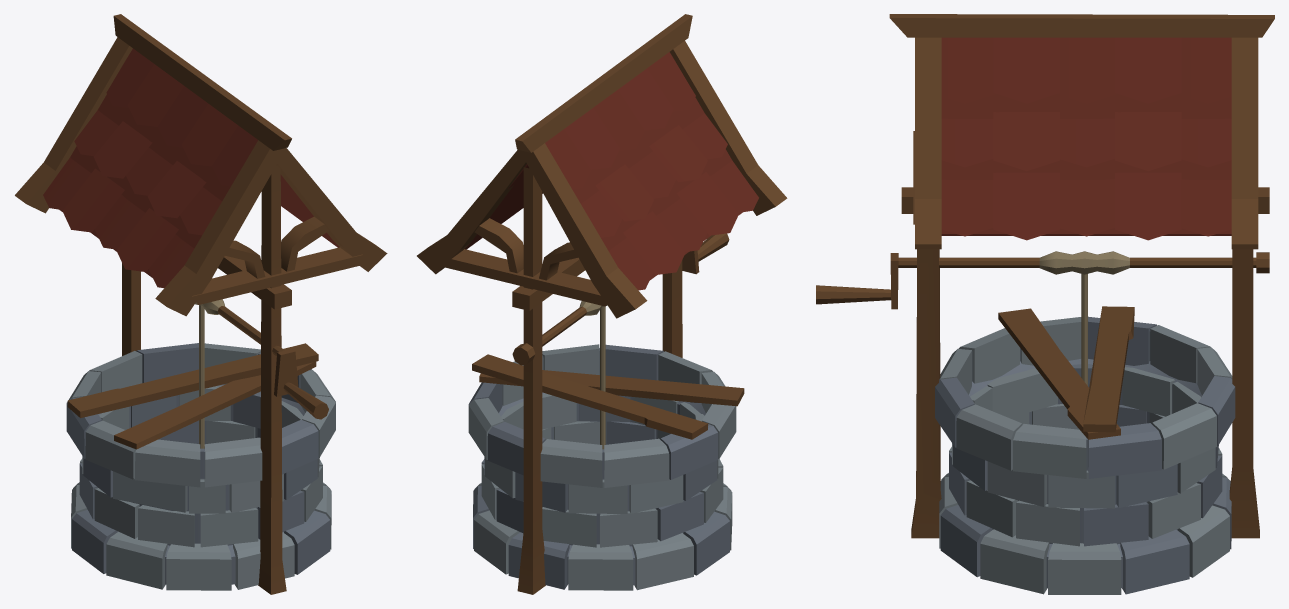
Rendered from v_well.glb.
The picture shows the model from 3 angles, left to right: view 1: azimuth 30°, elevation 25°; view 2: azimuth 150°, elevation 25°; view 3: azimuth 270°, elevation 25°; orthographic projection. The views are drawn at different scales.
Visible parts, largest first — view 1: Well; view 2: Well; view 3: Well.
Part boxes in pixels (x1,y1,x2,y2): Well: (15,14,387,594); Well: (417,14,787,594); Well: (816,14,1274,594).
Size of the model in its own units: 0.6664 by 1.25 by 1.
